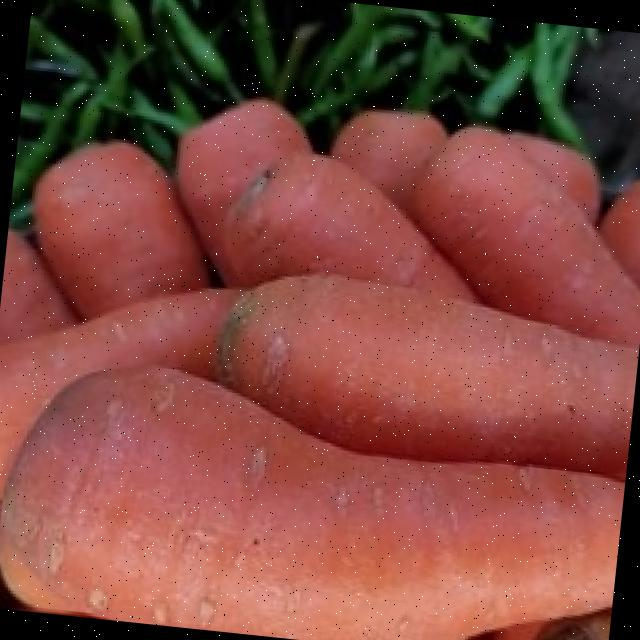carrot: (0, 103, 640, 640)
